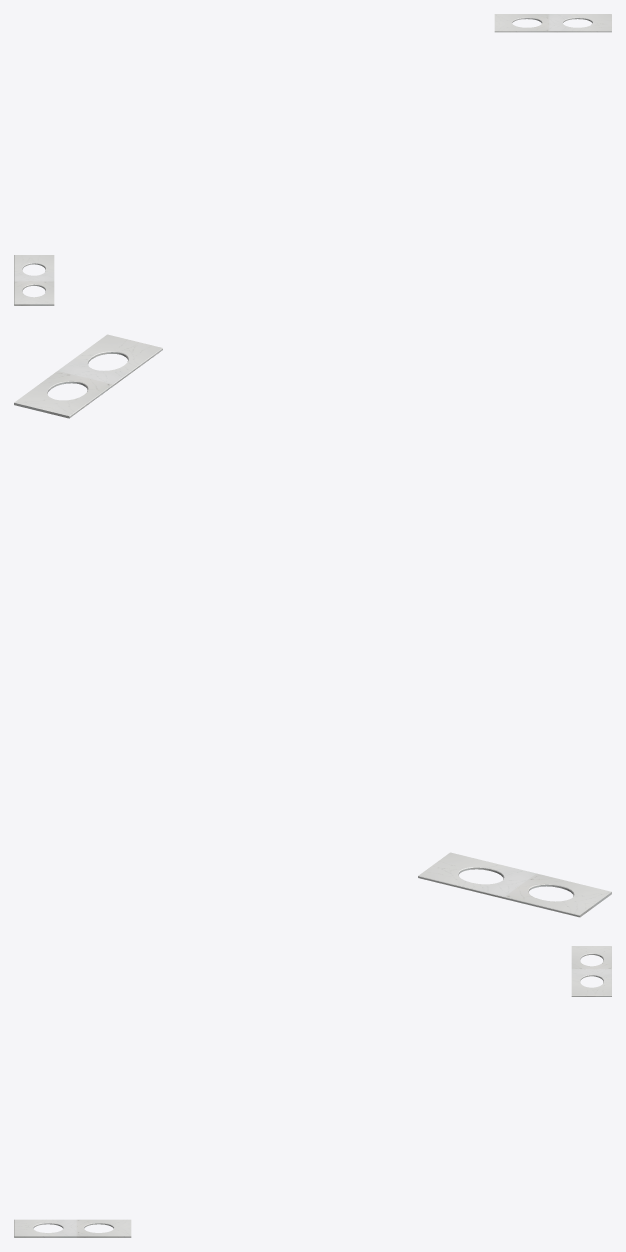
Rendered from Countertops_Quartz_Calacatta_Ultra.glb.
The picture shows the model from 3 angles, top to bottom: view 1: azimuth 90°, elevation 25°; view 2: azimuth 150°, elevation 25°; view 3: azimuth 270°, elevation 25°; orthographic projection. The views are drawn at different scales.
Visible parts, largest first — view 1: Countertop_quartz_calacatta_ultra; view 2: Countertop_quartz_calacatta_ultra; view 3: Countertop_quartz_calacatta_ultra.
Boxes of the visible parts, x1,y1,x2,y2 form: Countertop_quartz_calacatta_ultra: (14, 14, 611, 305); Countertop_quartz_calacatta_ultra: (14, 334, 611, 917); Countertop_quartz_calacatta_ultra: (14, 946, 611, 1237).
Bounding box in the file's own units: 17 × 0.04 × 14.8.
Materials: 1 (1 with a texture image).
